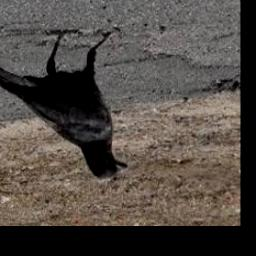Crow: (0, 28, 127, 180)
